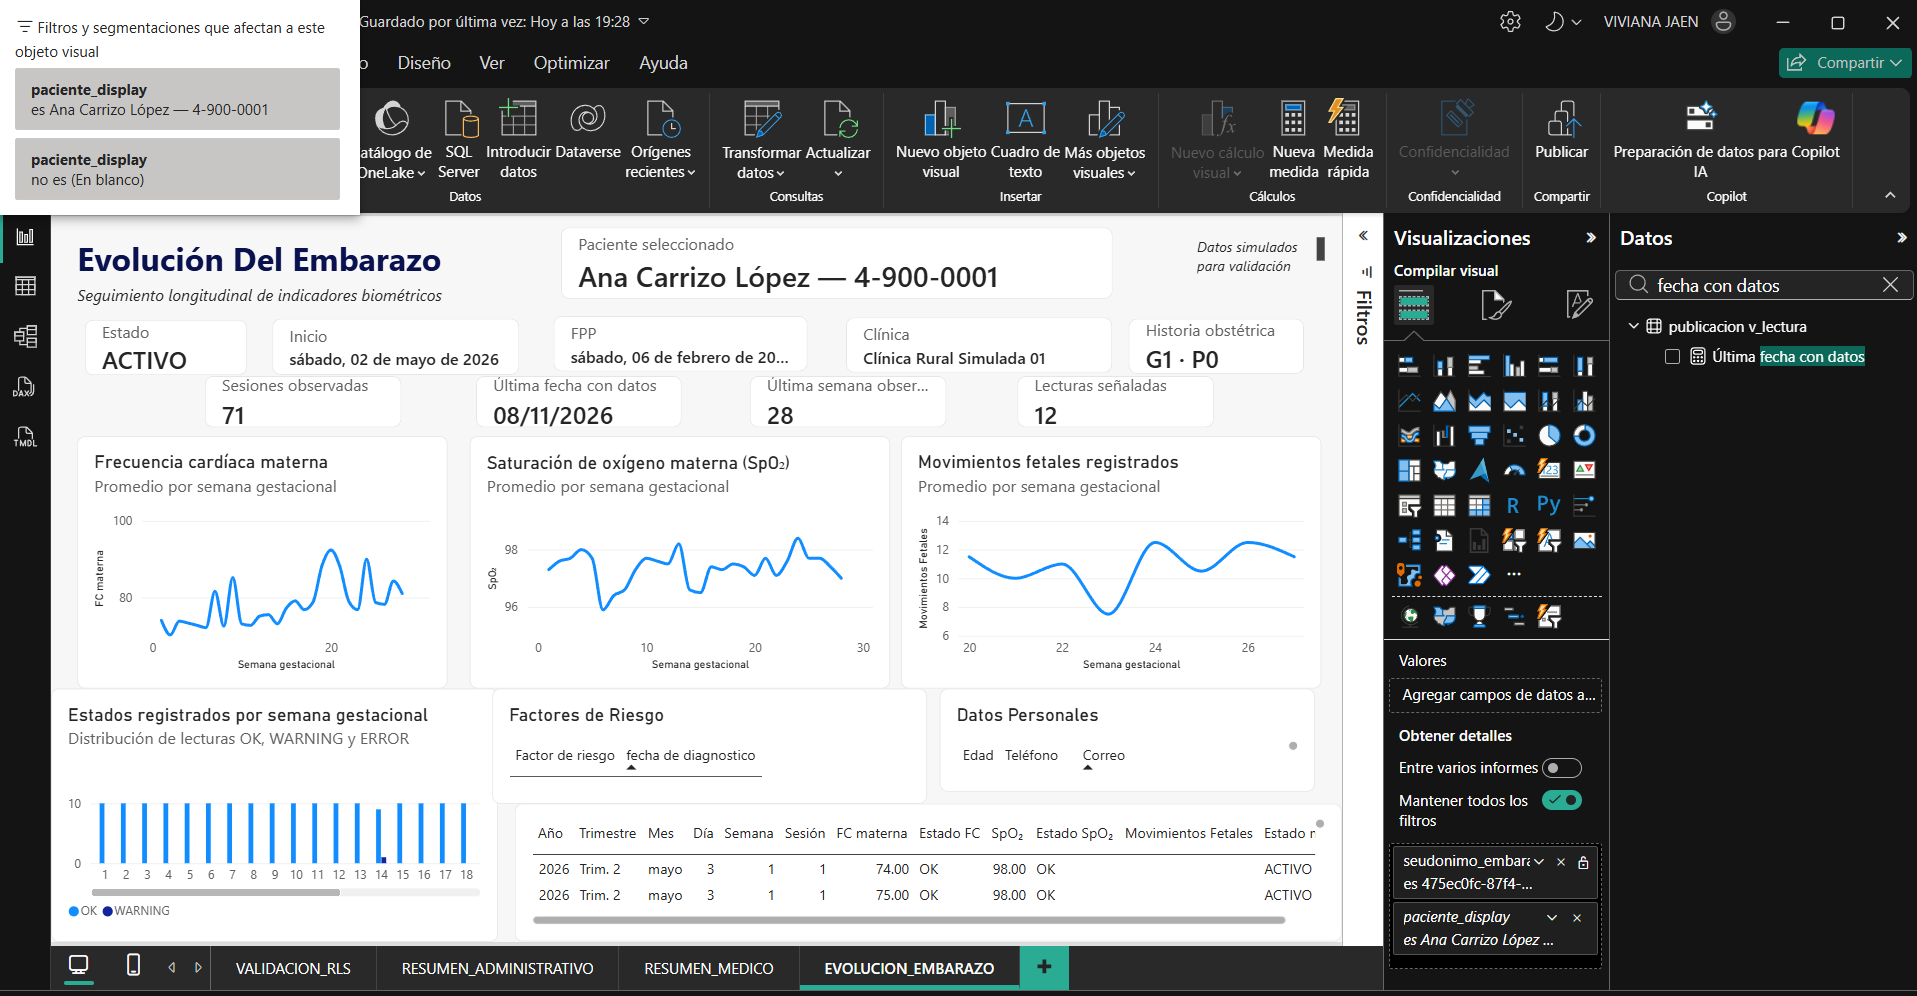

The dashboard page shown, as its layout file describes it:
{"tool":"powerbi","page":{"name":"EVOLUCION_EMBARAZO","canvas":[1280,720],"ordinal":3},"visuals":[{"type":"textbox","box":[25.7,20,502.9,47.1],"z":0},{"type":"textbox","box":[25.7,67.1,502.9,31.4],"z":1000},{"type":"textbox","box":[1136.2,20.6,126.2,35.7],"z":2000},{"type":"cardVisual","fields":{"Data":["publicacion v_paciente_medico.Paciente seleccionado"]},"box":[505.7,11.4,547.1,71.4],"z":4000},{"type":"group","id":"g1","title":"Grupo 1","box":[32.9,98.6,1208.6,57.1],"z":5000},{"type":"cardVisual","fields":{"Data":["Min(publicacion v_embarazo.estado_embarazo)"]},"box":[32.9,102.3,161.4,55.3],"z":5000,"group":"g1"},{"type":"group","id":"g2","title":"Grupo 2","box":[152.9,158.6,1001.4,51.4],"z":6000},{"type":"cardVisual","fields":{"Data":["publicacion v_lectura.Sesiones observadas"]},"box":[152.9,158.6,195.7,51.4],"z":6000,"group":"g2"},{"type":"cardVisual","fields":{"Data":["Min(publicacion v_embarazo.nombre_clinica)"]},"box":[787.6,99.4,264.3,55.3],"z":7000,"group":"g1"},{"type":"cardVisual","fields":{"Data":["publicacion v_lectura.Última fecha con datos"]},"box":[422.1,159,204.3,51.4],"z":7000,"group":"g2"},{"type":"lineChart","title":"Frecuencia cardíaca materna","fields":{"Category":["publicacion v_lectura.semana_gestacion"],"Y":["publicacion v_lectura.HR promedio"]},"box":[25.7,218.6,367.1,250],"z":7000},{"type":"cardVisual","fields":{"Data":["Min(publicacion v_embarazo.fecha_inicio)"]},"box":[219,100.8,245.7,56.4],"z":8000,"group":"g1"},{"type":"cardVisual","fields":{"Data":["publicacion v_lectura.Última semana observada"]},"box":[692.9,158.6,195.7,51.4],"z":8000,"group":"g2"},{"type":"lineChart","title":"Saturación de oxígeno materna (SpO₂)","fields":{"Category":["publicacion v_lectura.semana_gestacion"],"Y":["publicacion v_lectura.SpO₂ promedio"]},"box":[415.7,218.6,417.1,250],"z":8000},{"type":"cardVisual","fields":{"Data":["Min(publicacion v_embarazo.fecha_probable_parto)"]},"box":[497.4,98.6,252.9,55.3],"z":9000,"group":"g1"},{"type":"cardVisual","fields":{"Data":["publicacion v_lectura.Lecturas señaladas"]},"box":[958.6,158.6,195.7,51.4],"z":9000,"group":"g2"},{"type":"lineChart","title":"Movimientos fetales registrados","fields":{"Category":["publicacion v_lectura.semana_gestacion"],"Y":["publicacion v_lectura.Movimientos promedio"]},"box":[842.9,218.6,417.1,250],"z":9000},{"type":"cardVisual","fields":{"Data":["publicacion v_embarazo.Historia obstétrica"]},"box":[1067.3,101.2,174.3,55.3],"z":10000,"group":"g1"},{"type":"clusteredColumnChart","title":"Estados registrados por semana gestacional","fields":{"Category":["publicacion v_lectura.semana_gestacion"],"Series":["publicacion v_lectura.codigo_semaforo"],"Y":["publicacion v_lectura.Lecturas"]},"box":[0,468.6,442.9,251.4],"z":10000},{"type":"tableEx","title":"Factores de Riesgo","fields":{"Values":["publicacion v_factor_riesgo.nombre_factor","publicacion v_embarazo_factor_riesgo.fecha_diagnostico"]},"box":[437.1,468.6,431.4,114.3],"z":11000},{"type":"tableEx","fields":{"Values":["publicacion v_lectura.fecha_captura.Variación.Jerarquía de fechas.Año","publicacion v_lectura.fecha_captura.Variación.Jerarquía de fechas.Trimestre","publicacion v_lectura.fecha_captura.Variación.Jerarquía de fechas.Mes","publicacion v_lectura.fecha_captura.Variación.Jerarquía de fechas.Día","publicacion v_lectura.semana_gestacion","Sum(publicacion v_lectura.secuencia_sesion)","publicacion v_lectura.hr_valor","publicacion v_lectura.estado_hr","publicacion v_lectura.spo2_valor","publicacion v_lectura.estado_spo2","Sum(publicacion v_lectura.mov_valor)","publicacion v_embarazo.estado_embarazo"]},"box":[460,582.9,820,137.1],"z":12000},{"type":"tableEx","title":"Datos Personales","fields":{"Values":["publicacion v_paciente_medico.Edad al inicio","publicacion v_paciente_medico.telefono_pac","publicacion v_paciente_medico.Correo"]},"box":[881.4,468.6,372.1,102.3],"z":13000}]}

Visuals, with their boxes on the page's 1280x720 design canvas (x1, y1, x2, y2). These are canvas units, not pixel positions in the 1917x996 screenshot, which may show the page scaled, cropped or inside an application window:
textbox: l=26, t=20, r=529, b=67
textbox: l=26, t=67, r=529, b=98
textbox: l=1136, t=21, r=1262, b=56
cardVisual - publicacion v_paciente_medico.Paciente seleccionado: l=506, t=11, r=1053, b=83
"Grupo 1" group: l=33, t=99, r=1242, b=156
cardVisual - Min(publicacion v_embarazo.estado_embarazo): l=33, t=102, r=194, b=158
"Grupo 2" group: l=153, t=159, r=1154, b=210
cardVisual - publicacion v_lectura.Sesiones observadas: l=153, t=159, r=349, b=210
cardVisual - Min(publicacion v_embarazo.nombre_clinica): l=788, t=99, r=1052, b=155
cardVisual - publicacion v_lectura.Última fecha con datos: l=422, t=159, r=626, b=210
"Frecuencia cardíaca materna" lineChart: l=26, t=219, r=393, b=469
cardVisual - Min(publicacion v_embarazo.fecha_inicio): l=219, t=101, r=465, b=157
cardVisual - publicacion v_lectura.Última semana observada: l=693, t=159, r=889, b=210
"Saturación de oxígeno materna (SpO₂)" lineChart: l=416, t=219, r=833, b=469
cardVisual - Min(publicacion v_embarazo.fecha_probable_parto): l=497, t=99, r=750, b=154
cardVisual - publicacion v_lectura.Lecturas señaladas: l=959, t=159, r=1154, b=210
"Movimientos fetales registrados" lineChart: l=843, t=219, r=1260, b=469
cardVisual - publicacion v_embarazo.Historia obstétrica: l=1067, t=101, r=1242, b=156
"Estados registrados por semana gestacional" clusteredColumnChart: l=0, t=469, r=443, b=720
"Factores de Riesgo" tableEx: l=437, t=469, r=868, b=583
tableEx - publicacion v_lectura.fecha_captura.Variación.Jerarquía de fechas.Año x publicacion v_lectura.fecha_captura.Variación.Jerarquía de fechas.Trimestre: l=460, t=583, r=1280, b=720
"Datos Personales" tableEx: l=881, t=469, r=1254, b=571
